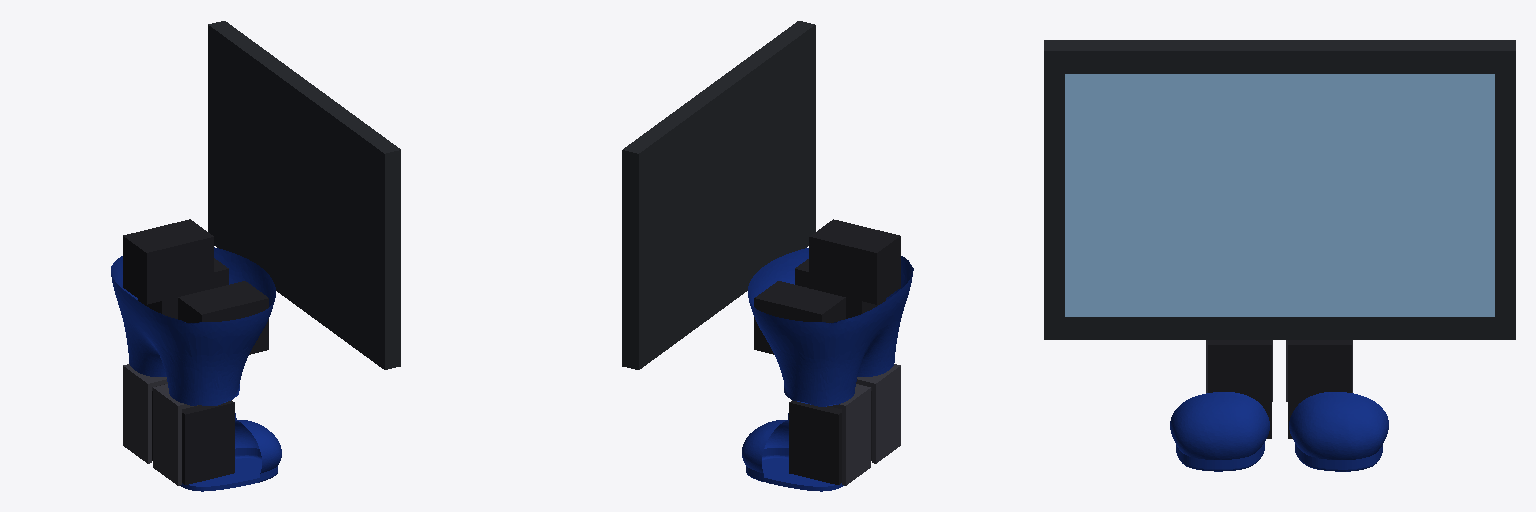
URDF robot description (haetburi):
<?xml version="1.0"?>
<!-- Haetburi biped (v12_slipper_display) - generated by tools/build_model.py, do not edit by hand -->
<robot name="haetburi">
  <mujoco>
    <compiler meshdir="." balanceinertia="true" discardvisual="false" strippath="false" fusestatic="false"/>
  </mujoco>
  <material name="display"><color rgba="0.18 0.19 0.21 1"/></material>
  <material name="screen"><color rgba="0.62 0.80 0.95 1"/></material>
  <material name="shell"><color rgba="0.106 0.216 0.541 1"/></material>
  <material name="motor"><color rgba="0.15 0.15 0.17 1"/></material>
  <material name="foot"><color rgba="0.25 0.25 0.28 1"/></material>
  <link name="world"/>
  <joint name="floating_base" type="floating">
    <parent link="world"/><child link="pelvis"/>
    <origin xyz="0 0 0" rpy="0 0 0"/>
  </joint>
  <link name="pelvis">
    <inertial>
      <origin xyz="0.015438 -4.94845e-05 0.0270987" rpy="0 0 0"/>
      <mass value="0.537445"/>
      <inertia ixx="0.00022952" ixy="-2.25154e-07" ixz="-2.75386e-05" iyy="0.000176351" iyz="4.86873e-08" izz="0.000268178"/>
    </inertial>
    <visual><origin xyz="0 0 0" rpy="0 0 0"/><geometry><mesh filename="meshes/pelvis.stl"/></geometry><material name="shell"/></visual>
    <visual><origin xyz="0.0120026 0.0238233 0.032" rpy="0 0 0"/><geometry><box size="0.0465 0.0285 0.034"/></geometry><material name="motor"/></visual>
    <visual><origin xyz="0.0119974 -0.0241173 0.032" rpy="0 0 0"/><geometry><box size="0.0465 0.0285 0.034"/></geometry><material name="motor"/></visual>
    <collision><origin xyz="0.00726628 -0.000142355 0.0254167" rpy="0 0 0"/><geometry><box size="0.0871192 0.115689 0.0508333"/></geometry></collision>
  </link>
  <link name="torso">
    <inertial>
      <origin xyz="0.0198038 9.70446e-05 0.122089" rpy="0 0 0"/>
      <mass value="2.06339"/>
      <inertia ixx="0.0316271" ixy="-8.99459e-05" ixz="0.0052462" iyy="0.0318877" iyz="-8.72193e-05" izz="0.0168966"/>
    </inertial>
    <visual><origin xyz="0 0 0" rpy="0 0 0"/><geometry><mesh filename="meshes/torso.stl"/></geometry><material name="shell"/></visual>
    <visual><origin xyz="-0.012 0 0.0175" rpy="0 0 0"/><geometry><box size="0.0465 0.0285 0.034"/></geometry><material name="motor"/></visual>
    <visual><origin xyz="0.0817526 0 0.0394059" rpy="0 0 0"/><geometry><box size="0.0115 0.2105 0.1423"/></geometry><material name="display"/></visual>
    <visual><origin xyz="0.0875026 0 0.0394059" rpy="0 0 0"/><geometry><box size="0.0004 0.192 0.12"/></geometry><material name="screen"/></visual>
    <collision><origin xyz="-0.0379573 -1.76698e-06 0.0280034" rpy="0 0 0"/><geometry><box size="0.178167 0.12081 0.118972"/></geometry></collision>
    <collision><origin xyz="0.04635 0.0935783 0.0564289" rpy="0 0 0"/><geometry><sphere radius="0.0676906"/></geometry></collision>
    <collision><origin xyz="0.0466704 -0.0937217 0.0564289" rpy="0 0 0"/><geometry><sphere radius="0.0676255"/></geometry></collision>
    <collision><origin xyz="-0.00581771 0.000297523 0.114239" rpy="0 0 0"/><geometry><sphere radius="0.116103"/></geometry></collision>
    <collision><origin xyz="-0.0101376 -0.000136786 0.167701" rpy="0 0 0"/><geometry><sphere radius="0.133948"/></geometry></collision>
    <collision><origin xyz="-0.0154366 -0.00022576 0.221173" rpy="0 0 0"/><geometry><sphere radius="0.132396"/></geometry></collision>
    <collision><origin xyz="-0.01211 0.000953686 0.274642" rpy="0 0 0"/><geometry><sphere radius="0.115124"/></geometry></collision>
    <collision><origin xyz="-0.00716584 0.00754869 0.328144" rpy="0 0 0"/><geometry><sphere radius="0.0820566"/></geometry></collision>
    <collision><origin xyz="-0.0131324 -0.00249501 0.381598" rpy="0 0 0"/><geometry><sphere radius="0.0476199"/></geometry></collision>
    <collision><origin xyz="0.0817526 0 0.0394059" rpy="0 0 0"/><geometry><box size="0.0115 0.2105 0.1423"/></geometry></collision>
  </link>
  <link name="leg_l">
    <inertial>
      <origin xyz="-0.000526044 0.000120221 -0.0272381" rpy="0 0 0"/>
      <mass value="0.0599756"/>
      <inertia ixx="2.07265e-05" ixy="-2.00815e-08" ixz="5.60358e-07" iyy="1.61874e-05" iyz="-1.07437e-07" izz="1.15679e-05"/>
    </inertial>
    <visual><origin xyz="0 0 0" rpy="0 0 0"/><geometry><mesh filename="meshes/leg_l.stl"/></geometry><material name="shell"/></visual>
    <visual><origin xyz="-0.0230197 -0.00607258 -0.0363125" rpy="0 0 0"/><geometry><box size="0.003 0.03 0.052625"/></geometry><material name="foot"/></visual>
    <visual><origin xyz="-0.00726969 -0.00607258 -0.0115" rpy="0 0 0"/><geometry><box size="0.0345 0.03 0.003"/></geometry><material name="foot"/></visual>
    <collision><origin xyz="-5.51163e-07 -7.59827e-06 -0.005" rpy="0 0 0"/><geometry><box size="0.0454446 0.0416349 0.01"/></geometry></collision>
  </link>
  <link name="foot_l">
    <inertial>
      <origin xyz="0.00704868 0.00210881 0.00783148" rpy="0 0 0"/>
      <mass value="0.0760105"/>
      <inertia ixx="2.39811e-05" ixy="-3.63992e-06" ixz="5.55134e-06" iyy="3.80909e-05" iyz="1.96859e-06" izz="2.96862e-05"/>
    </inertial>
    <visual><origin xyz="0 0 0" rpy="0 0 0"/><geometry><mesh filename="meshes/foot_l.stl"/></geometry><material name="shell"/></visual>
    <visual><origin xyz="-0 0 0.012" rpy="0 0 0"/><geometry><box size="0.034 0.0285 0.0465"/></geometry><material name="motor"/></visual>
    <collision><origin xyz="0 0 0" rpy="0 0 0"/><geometry><mesh filename="meshes/foot_l.stl"/></geometry></collision>
    <collision><origin xyz="-0 0 0.012" rpy="0 0 0"/><geometry><box size="0.034 0.0285 0.0465"/></geometry></collision>
  </link>
  <link name="leg_r">
    <inertial>
      <origin xyz="-0.000151712 6.07334e-05 -0.0266789" rpy="0 0 0"/>
      <mass value="0.0619754"/>
      <inertia ixx="2.15883e-05" ixy="-1.94399e-07" ixz="1.72919e-07" iyy="1.68213e-05" iyz="-8.16914e-08" izz="1.19002e-05"/>
    </inertial>
    <visual><origin xyz="0 0 0" rpy="0 0 0"/><geometry><mesh filename="meshes/leg_r.stl"/></geometry><material name="shell"/></visual>
    <visual><origin xyz="-0.0230146 0.00607651 -0.0363125" rpy="0 0 0"/><geometry><box size="0.003 0.03 0.052625"/></geometry><material name="foot"/></visual>
    <visual><origin xyz="-0.00726456 0.00607651 -0.0115" rpy="0 0 0"/><geometry><box size="0.0345 0.03 0.003"/></geometry><material name="foot"/></visual>
    <collision><origin xyz="1.31624e-06 1.20456e-05 -0.005" rpy="0 0 0"/><geometry><box size="0.0454078 0.0417149 0.01"/></geometry></collision>
  </link>
  <link name="foot_r">
    <inertial>
      <origin xyz="0.0070079 -0.00211247 0.00783321" rpy="0 0 0"/>
      <mass value="0.0759422"/>
      <inertia ixx="2.39803e-05" ixy="3.63669e-06" ixz="5.53844e-06" iyy="3.79437e-05" iyz="-1.98131e-06" izz="2.95458e-05"/>
    </inertial>
    <visual><origin xyz="0 0 0" rpy="0 0 0"/><geometry><mesh filename="meshes/foot_r.stl"/></geometry><material name="shell"/></visual>
    <visual><origin xyz="-0 0 0.012" rpy="0 0 0"/><geometry><box size="0.034 0.0285 0.0465"/></geometry><material name="motor"/></visual>
    <collision><origin xyz="0 0 0" rpy="0 0 0"/><geometry><mesh filename="meshes/foot_r.stl"/></geometry></collision>
    <collision><origin xyz="-0 0 0.012" rpy="0 0 0"/><geometry><box size="0.034 0.0285 0.0465"/></geometry></collision>
  </link>
  <joint name="waist_yaw" type="revolute">
    <parent link="pelvis"/><child link="torso"/>
    <origin xyz="0 0 0.0508333" rpy="0 0 0"/>
    <axis xyz="0 0 1"/>
    <limit lower="-1.0472" upper="1.0472" effort="1.4" velocity="5.97"/>
    <dynamics damping="0.1" friction="0.04"/>
  </joint>
  <joint name="hip_yaw_l" type="revolute">
    <parent link="pelvis"/><child link="leg_l"/>
    <origin xyz="2.56599e-06 0.0238233 0" rpy="0 0 0"/>
    <axis xyz="0 0 1"/>
    <limit lower="-0.523599" upper="0.523599" effort="1.4" velocity="5.97"/>
    <dynamics damping="0.1" friction="0.04"/>
  </joint>
  <joint name="hip_yaw_r" type="revolute">
    <parent link="pelvis"/><child link="leg_r"/>
    <origin xyz="-2.56599e-06 -0.0241173 0" rpy="0 0 0"/>
    <axis xyz="0 0 1"/>
    <limit lower="-0.523599" upper="0.523599" effort="1.4" velocity="5.97"/>
    <dynamics damping="0.1" friction="0.04"/>
  </joint>
  <joint name="ankle_roll_l" type="revolute">
    <parent link="leg_l"/><child link="foot_l"/>
    <origin xyz="-0.00201969 -0.00607258 -0.052625" rpy="0 0 0"/>
    <axis xyz="1 0 0"/>
    <limit lower="-0.261799" upper="0.261799" effort="1.4" velocity="5.97"/>
    <dynamics damping="0.1" friction="0.04"/>
  </joint>
  <joint name="ankle_roll_r" type="revolute">
    <parent link="leg_r"/><child link="foot_r"/>
    <origin xyz="-0.00201456 0.00607651 -0.052625" rpy="0 0 0"/>
    <axis xyz="1 0 0"/>
    <limit lower="-0.261799" upper="0.261799" effort="1.4" velocity="5.97"/>
    <dynamics damping="0.1" friction="0.04"/>
  </joint>
</robot>

--- Facts derived from the render (not from the file) ---
Views: 3 orthographic renders of the robot side by side, from view 1: azimuth 30°, elevation 25°; view 2: azimuth 150°, elevation 25°; view 3: azimuth 270°, elevation 25°.
Robot: haetburi — 7 links, 6 joints (5 revolute, 1 floating); root link world; default pose: every joint at zero.
Visible links, largest first — view 1: torso, pelvis, foot_r, leg_r, leg_l; view 2: torso, pelvis, foot_l, leg_l, leg_r; view 3: torso, foot_r, foot_l.
Link boxes in pixels (x1,y1,x2,y2): torso: (123,21,400,369); pelvis: (111,247,275,391); foot_r: (180,400,281,491); leg_r: (153,379,240,485); leg_l: (123,350,167,463); torso: (622,21,900,369); pelvis: (748,248,913,391); foot_l: (742,400,843,491); leg_l: (783,379,870,485); leg_r: (856,349,900,463); torso: (1044,40,1515,339); foot_r: (1170,340,1271,471); foot_l: (1288,340,1388,471).
Size in the robot's own frame: 0.124 by 0.2105 by 0.2283 metres.
5 mesh visuals loaded from 6 distinct referenced files (5 binary STL); not drawn: 1 (reference not matched to a file when rendering).
